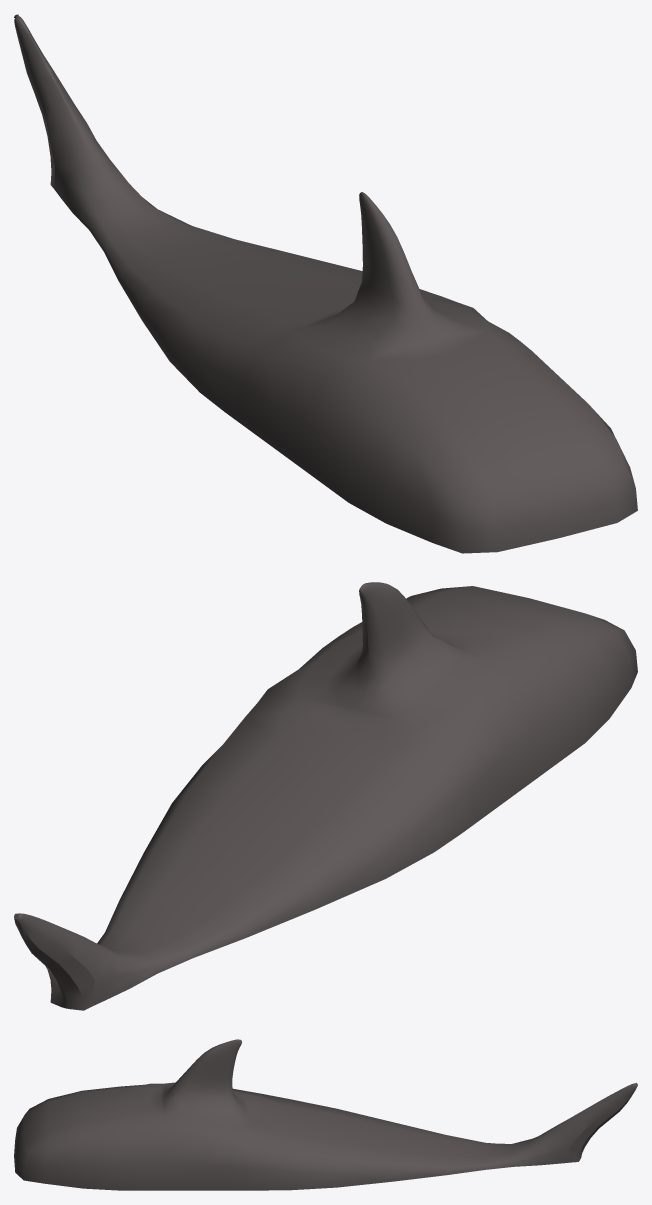
The model's file is Tubarao.fbx.
3 renders of one model, top to bottom at view 1: azimuth 30°, elevation 25°; view 2: azimuth 150°, elevation 25°; view 3: azimuth 270°, elevation 25°, orthographic. The views are drawn at different scales.
Visible parts, largest first — view 1: Cube.006; view 2: Cube.006; view 3: Cube.006.
Boxes of the visible parts, box(x1,y1,x2,y2) form: Cube.006: box(14, 14, 637, 553); Cube.006: box(14, 582, 637, 1010); Cube.006: box(14, 1039, 637, 1190).
Size of the model in its own units: 1 by 0.8263 by 3.97.
